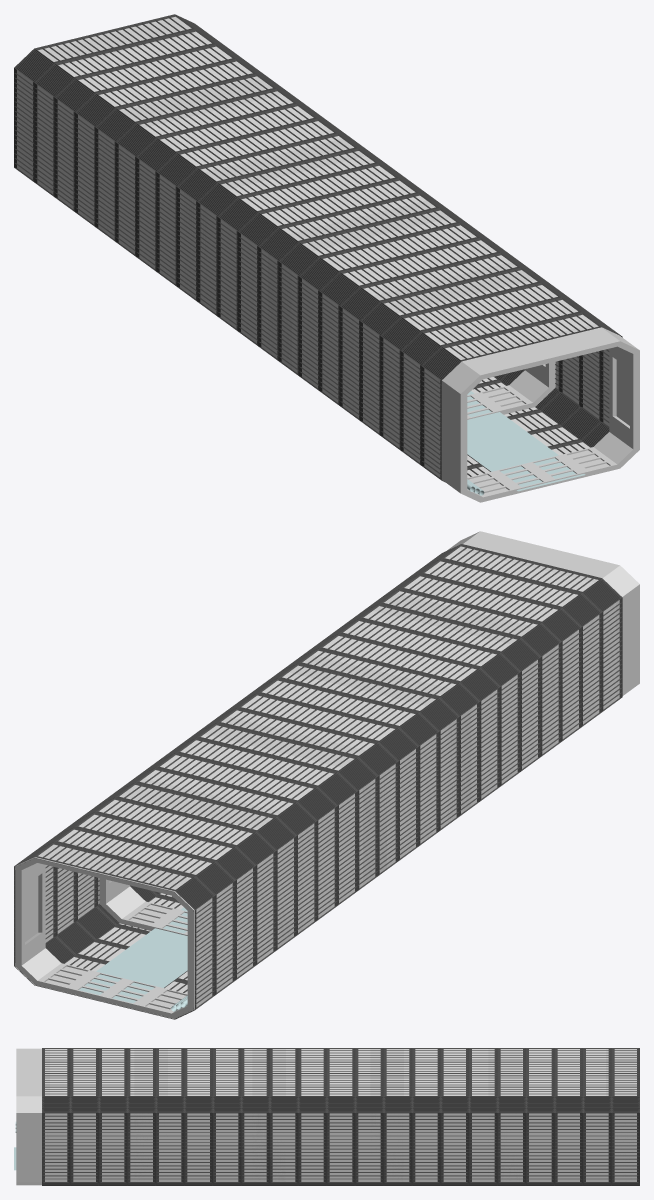
File: hallway.fbx
The picture shows the model from 3 angles, top to bottom: view 1: azimuth 30°, elevation 25°; view 2: azimuth 150°, elevation 25°; view 3: azimuth 270°, elevation 25°; orthographic projection. The views are drawn at different scales.
Parts seen in each view (by area): view 1: Wireframe, Base, Brackets, Floor; view 2: Wireframe, Base, Brackets, Floor; view 3: Wireframe, Base, Brackets.
Boxes of the visible parts, box(x1,y1,x2,y2) form: Wireframe: box(14, 14, 622, 481); Base: box(17, 33, 609, 479); Brackets: box(17, 16, 639, 502); Floor: box(467, 391, 585, 491); Wireframe: box(14, 544, 622, 1019); Base: box(16, 549, 619, 1018); Brackets: box(15, 531, 639, 1018); Floor: box(79, 907, 187, 1003); Wireframe: box(42, 1048, 639, 1185); Base: box(45, 1049, 636, 1181); Brackets: box(16, 1048, 636, 1185).
Bounding box in the file's own units: 298 × 202 × 1274.
